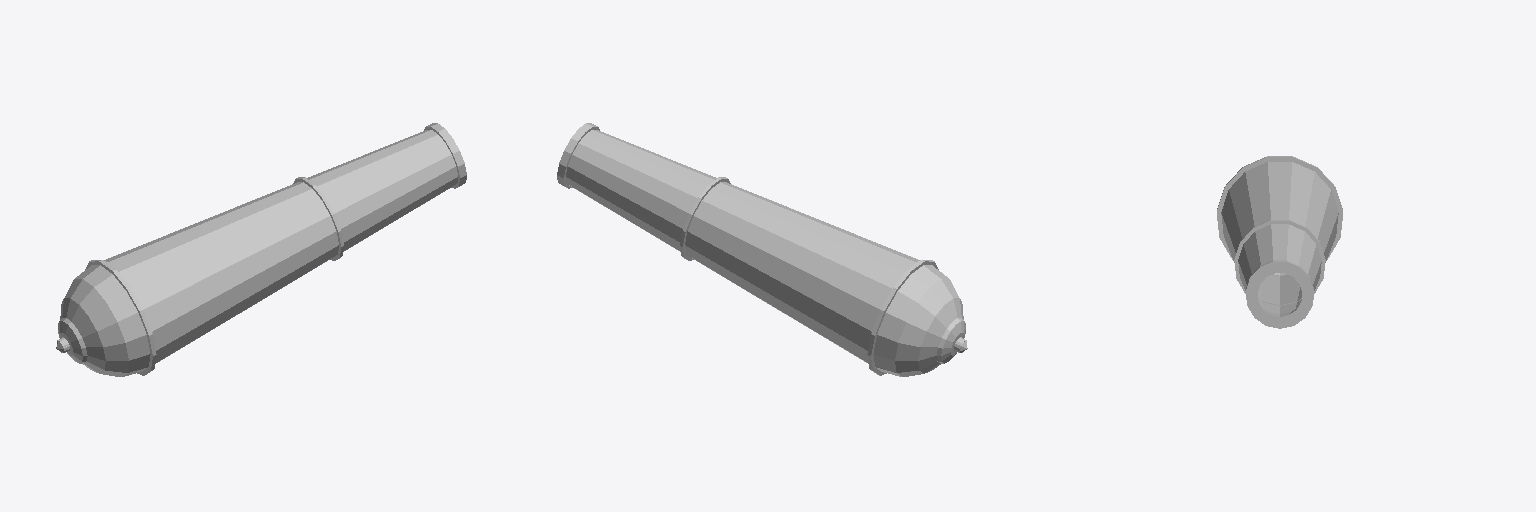
The model's file is cannon.obj.
3 renders of one model, left to right at view 1: azimuth 30°, elevation 25°; view 2: azimuth 150°, elevation 25°; view 3: azimuth 270°, elevation 25°, orthographic.
Visible parts, largest first — view 1: Sphere; view 2: Sphere; view 3: Sphere.
Part boxes in pixels (x1,y1,x2,y2): Sphere: (56, 123, 466, 376); Sphere: (557, 123, 967, 376); Sphere: (1217, 156, 1342, 328).
Bounding box in the file's own units: 7.76 × 3.15 × 2.14.